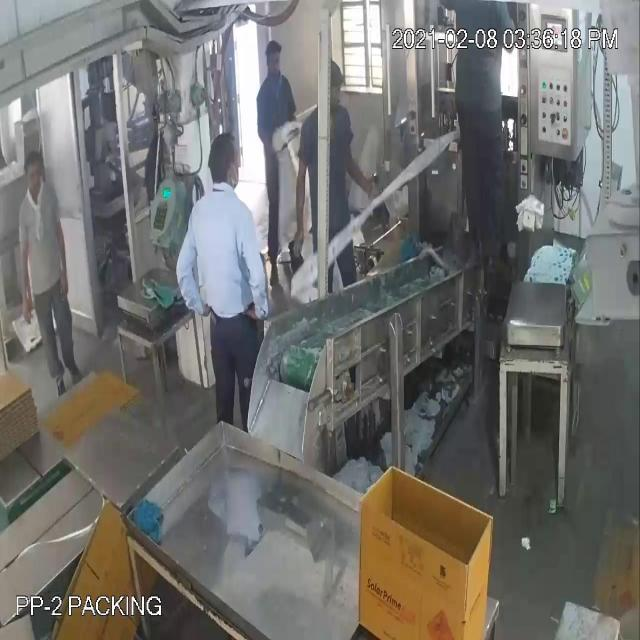No_Gloves: (22, 65, 357, 282)
